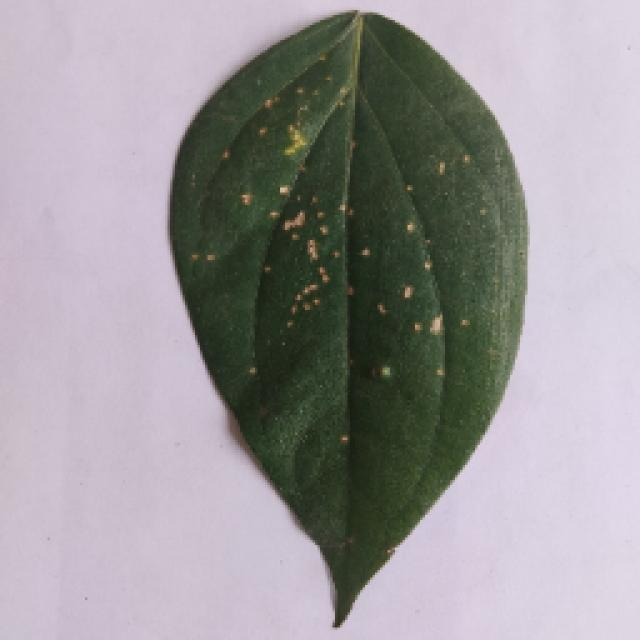pollu-disease: (167, 10, 525, 625)
